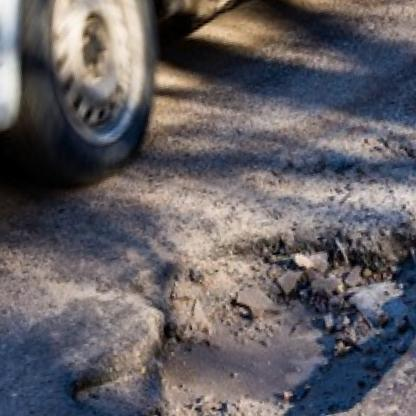pothole: (44, 195, 416, 416)
